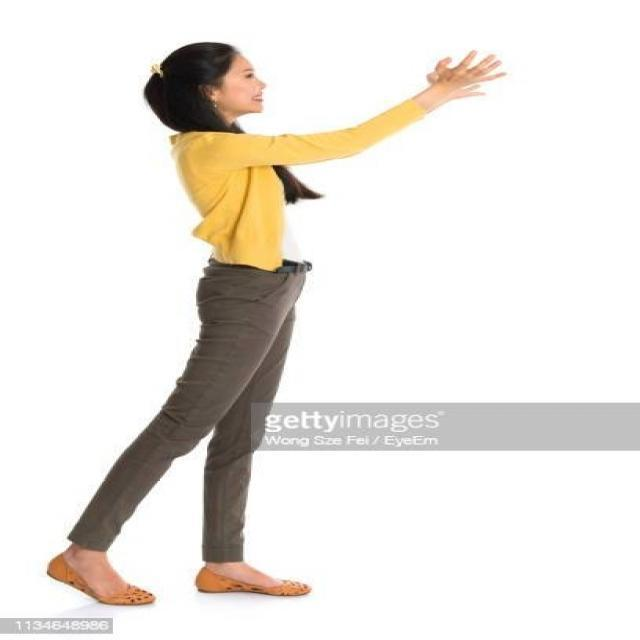walking: (25, 34, 519, 606)
